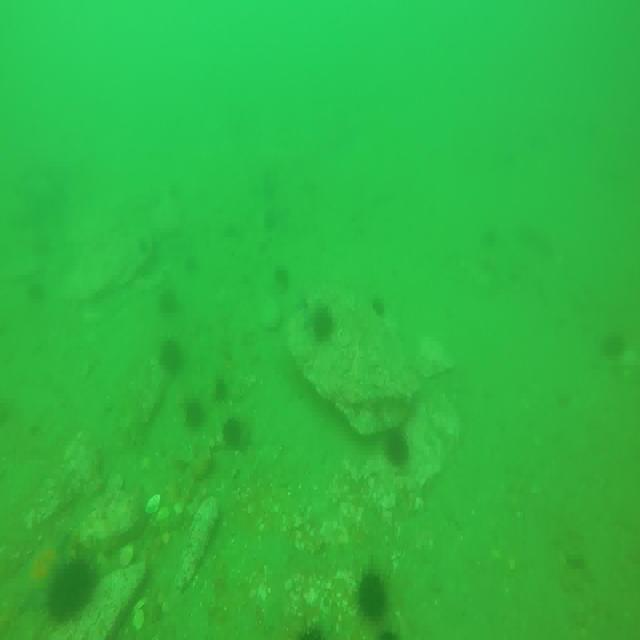echinus: (47, 564, 96, 618), (355, 565, 388, 622), (157, 336, 185, 380), (385, 430, 408, 474), (184, 394, 204, 433), (315, 305, 335, 339), (225, 414, 243, 448), (158, 287, 181, 312), (370, 294, 388, 319), (276, 264, 290, 290), (216, 373, 228, 402)
scallop: (142, 492, 164, 521)
starfish: (18, 531, 70, 610)
